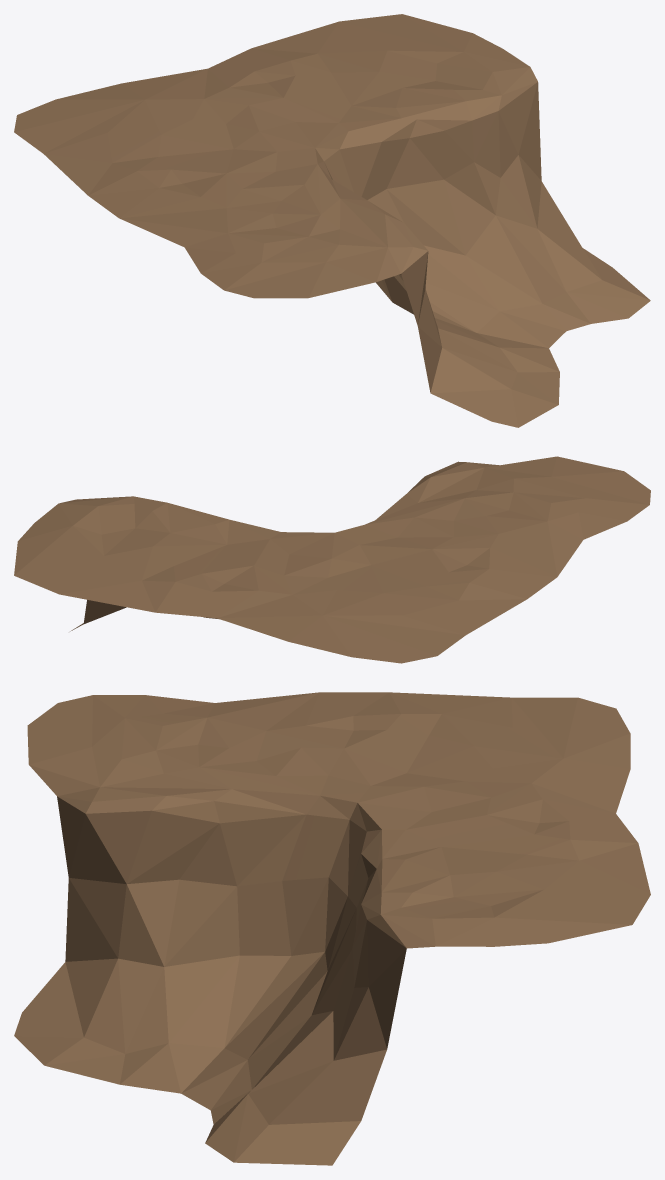
The model's file is SM_Env_Dirt_Edge_Corner_02.glb.
3 views of the same model, one above another, from view 1: azimuth 30°, elevation 25°; view 2: azimuth 150°, elevation 25°; view 3: azimuth 270°, elevation 25° (orthographic). The views are drawn at different scales.
Visible parts, largest first — view 1: SM_Env_Dirt_Edge_Corner_02; view 2: SM_Env_Dirt_Edge_Corner_02; view 3: SM_Env_Dirt_Edge_Corner_02.
Part boxes in pixels (<box>): SM_Env_Dirt_Edge_Corner_02: <box>14,14,650,427</box>; SM_Env_Dirt_Edge_Corner_02: <box>14,456,650,663</box>; SM_Env_Dirt_Edge_Corner_02: <box>14,692,650,1165</box>.
Bounding box in the file's own units: 8.75 × 3.07 × 8.56.
Materials: 1 (1 with a texture image).
